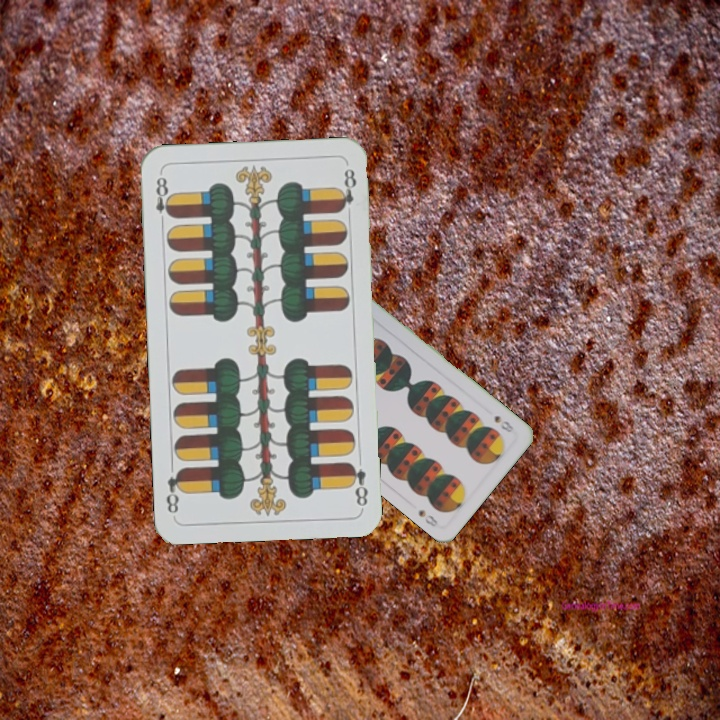E8: (345, 458, 371, 509), (152, 172, 175, 229)
S8: (490, 411, 517, 435)
